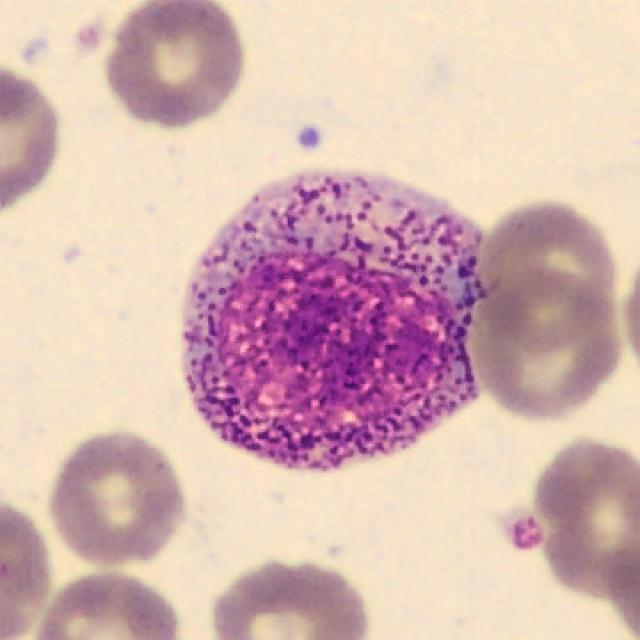Promielocito: (181, 169, 485, 473)
